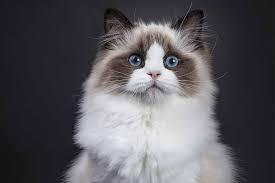ragdoll: (97, 1, 212, 133)
